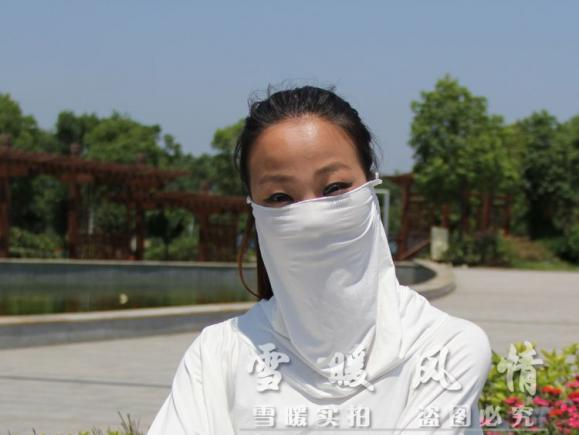OK: (254, 156, 375, 277)
